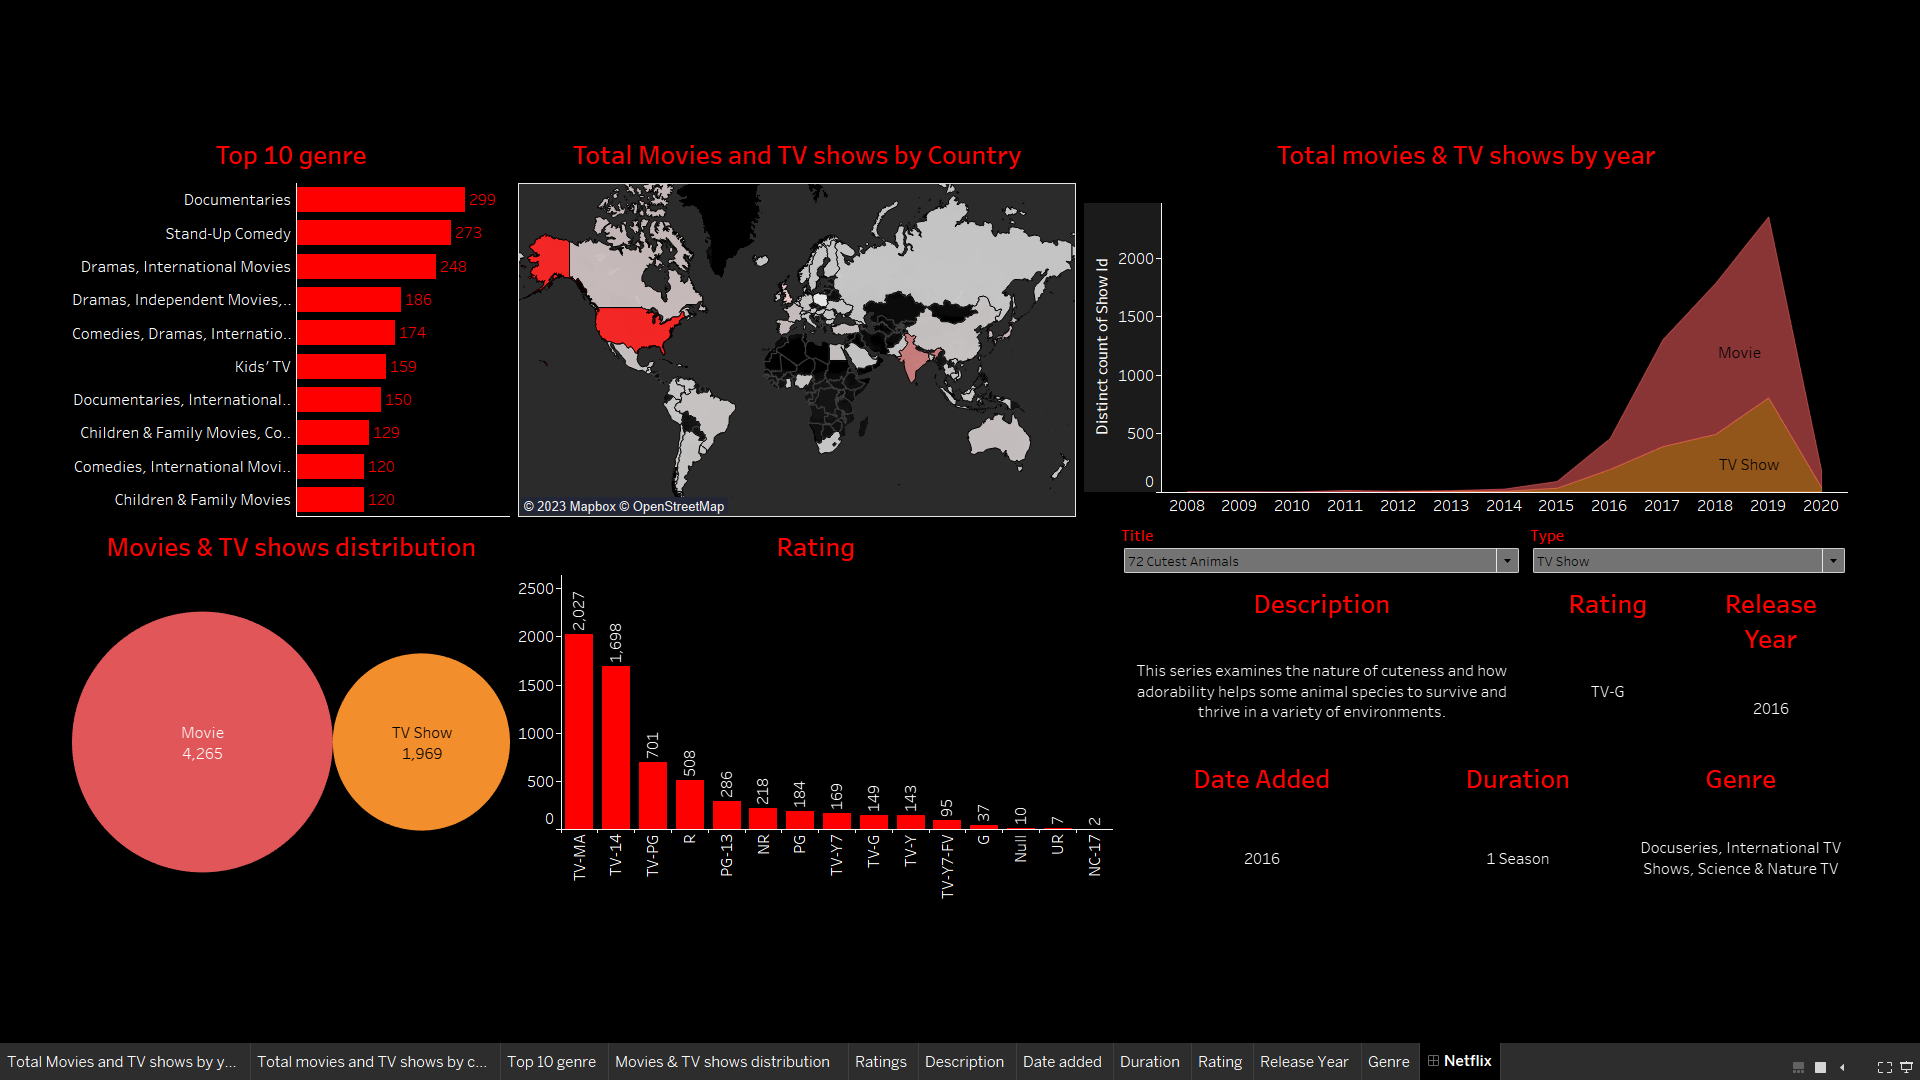

Layout of this report page (visuals, bound fields, positions):
{"tool":"tableau","page":{"name":"Netflix","canvas":[1800,800],"ordinal":0},"visuals":[{"type":"worksheet","title":"Top 10 genre","mark":"Automatic","rows":["listed_in"],"cols":["show_id"],"box":[8,8,446,392]},{"type":"worksheet","title":"Total movies and TV shows by country","mark":"Multipolygon","box":[454,8,565.8,392]},{"type":"worksheet","title":"Total Movies and TV shows by year'","mark":"Area","rows":["show_id"],"cols":["date_added"],"box":[1019.7,8,772.3,392]},{"type":"worksheet","title":"Movies & TV shows distribution","mark":"Circle","box":[8,400,446,392]},{"type":"worksheet","title":"Ratings","mark":"Automatic","rows":["show_id"],"cols":["rating"],"box":[454,400,603,392]},{"type":"filter","title":"Description","param":"[federated.0mbqxns1ru1ib7192b42p0v0ds6g].[none:title:nk]","box":[1057,400,408.7,57]},{"type":"filter","title":"Description","param":"[federated.0mbqxns1ru1ib7192b42p0v0ds6g].[none:type:nk]","box":[1465.7,400,326.3,57]},{"type":"worksheet","title":"Description","mark":"Automatic","box":[1057,457,408.7,175]},{"type":"worksheet","title":"Rating","mark":"Automatic","box":[1465.7,457,163.2,175]},{"type":"worksheet","title":"Release Year","mark":"Automatic","box":[1628.9,457,163.1,175]},{"type":"worksheet","title":"Date added","mark":"Automatic","box":[1057,632,289,160]},{"type":"worksheet","title":"Duration","mark":"Automatic","box":[1346,632,223,160]},{"type":"worksheet","title":"Genre","mark":"Automatic","box":[1569,632,223,160]}]}

Visuals, with their boxes on the page's 1800x800 design canvas (x1, y1, x2, y2). These are canvas units, not pixel positions in the 1920x1080 screenshot, which may show the page scaled, cropped or inside an application window:
"Top 10 genre" worksheet: bbox(8, 8, 454, 400)
"Total movies and TV shows by country" worksheet (Multipolygon marks): bbox(454, 8, 1020, 400)
"Total Movies and TV shows by year'" worksheet (Area marks): bbox(1020, 8, 1792, 400)
"Movies & TV shows distribution" worksheet (Circle marks): bbox(8, 400, 454, 792)
"Ratings" worksheet: bbox(454, 400, 1057, 792)
"Description" filter: bbox(1057, 400, 1466, 457)
"Description" filter: bbox(1466, 400, 1792, 457)
"Description" worksheet: bbox(1057, 457, 1466, 632)
"Rating" worksheet: bbox(1466, 457, 1629, 632)
"Release Year" worksheet: bbox(1629, 457, 1792, 632)
"Date added" worksheet: bbox(1057, 632, 1346, 792)
"Duration" worksheet: bbox(1346, 632, 1569, 792)
"Genre" worksheet: bbox(1569, 632, 1792, 792)
